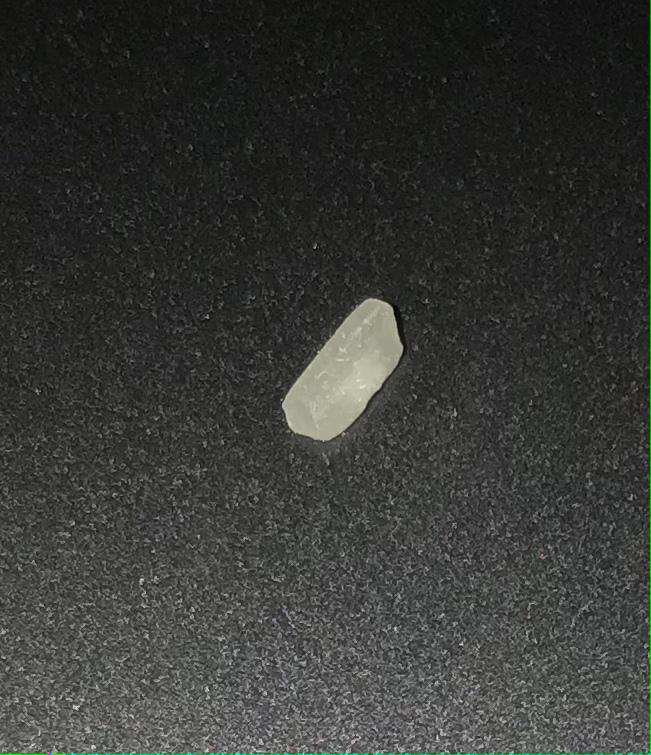Gao Tam Thom: (282, 295, 421, 455)
